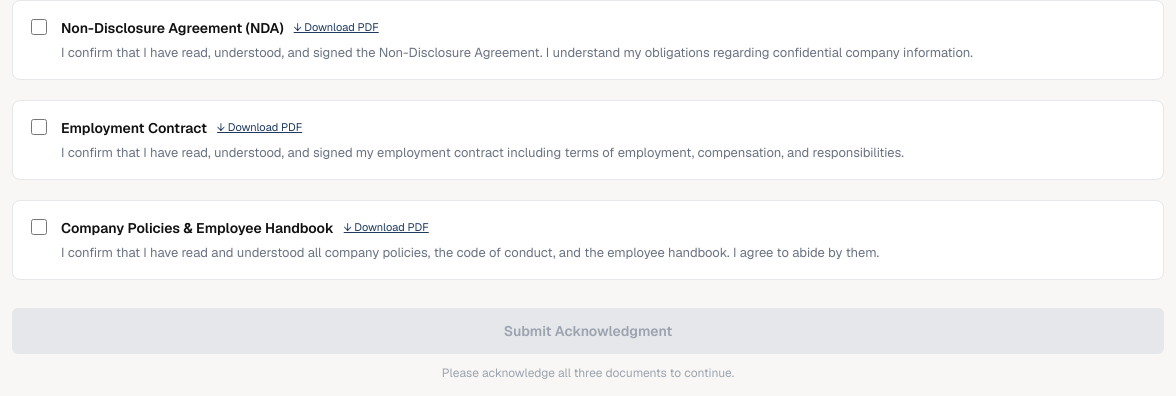
Test case: AcknowledgeForm › submit button becomes enabled when all three boxes are checked
Click the 1st checkbox: [39, 27] box [31,19,47,35]
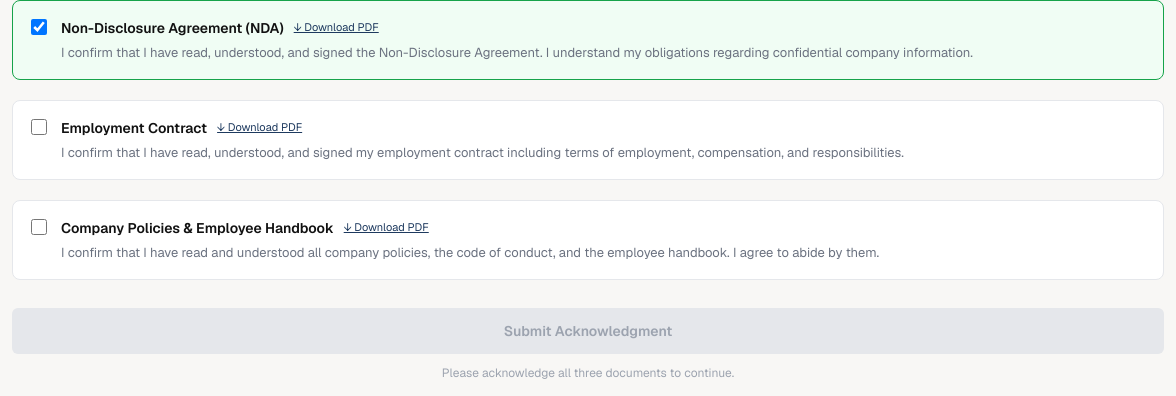
Click the 2nd checkbox: [39, 127] box [31,119,47,135]
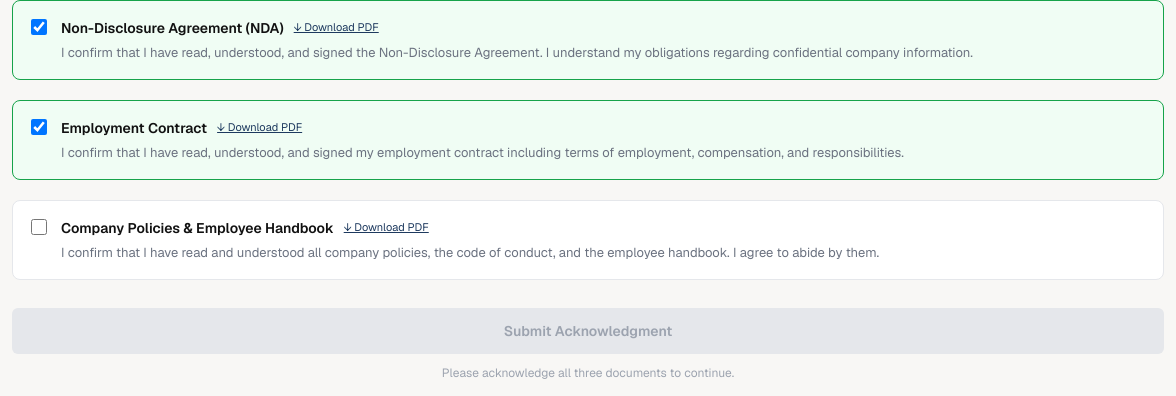
Click the 3rd checkbox: [39, 227] box [31,219,47,235]
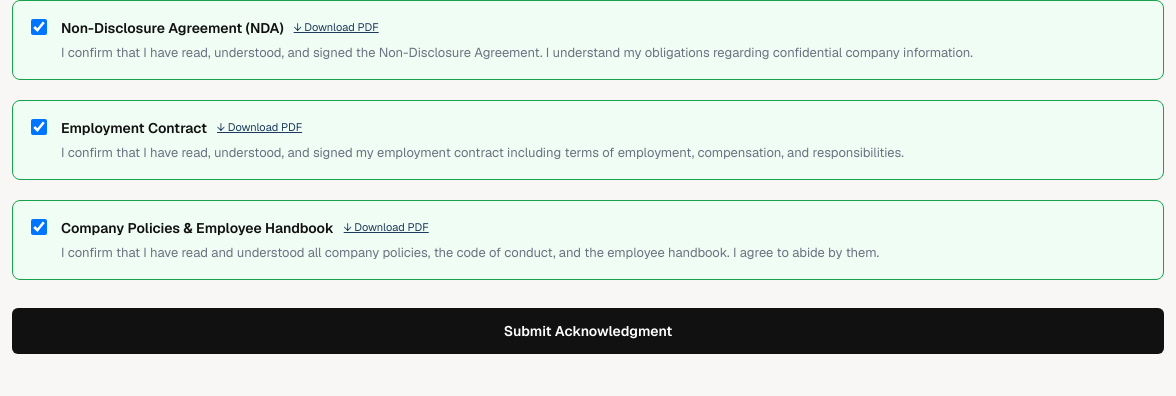
Result: the button "Submit Acknowledgment" is enabled at [12,308,1164,354]
